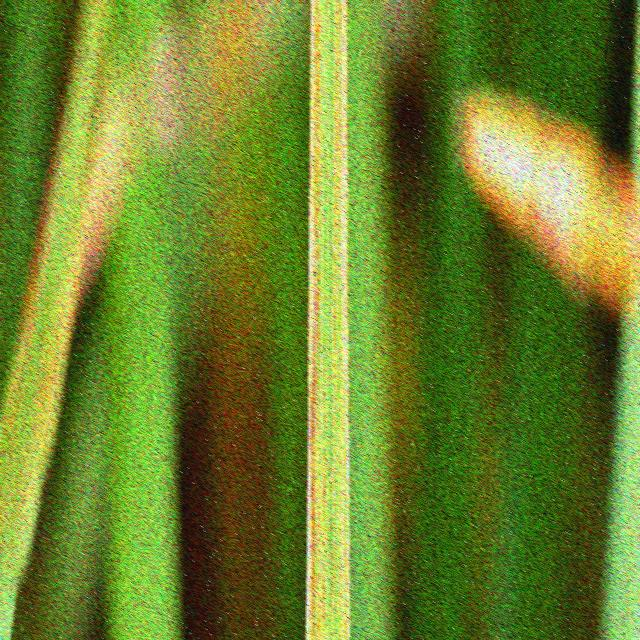BLS: (306, 1, 321, 640), (344, 0, 350, 640), (332, 3, 342, 384), (329, 1, 333, 640), (322, 156, 327, 640), (339, 414, 342, 640)
